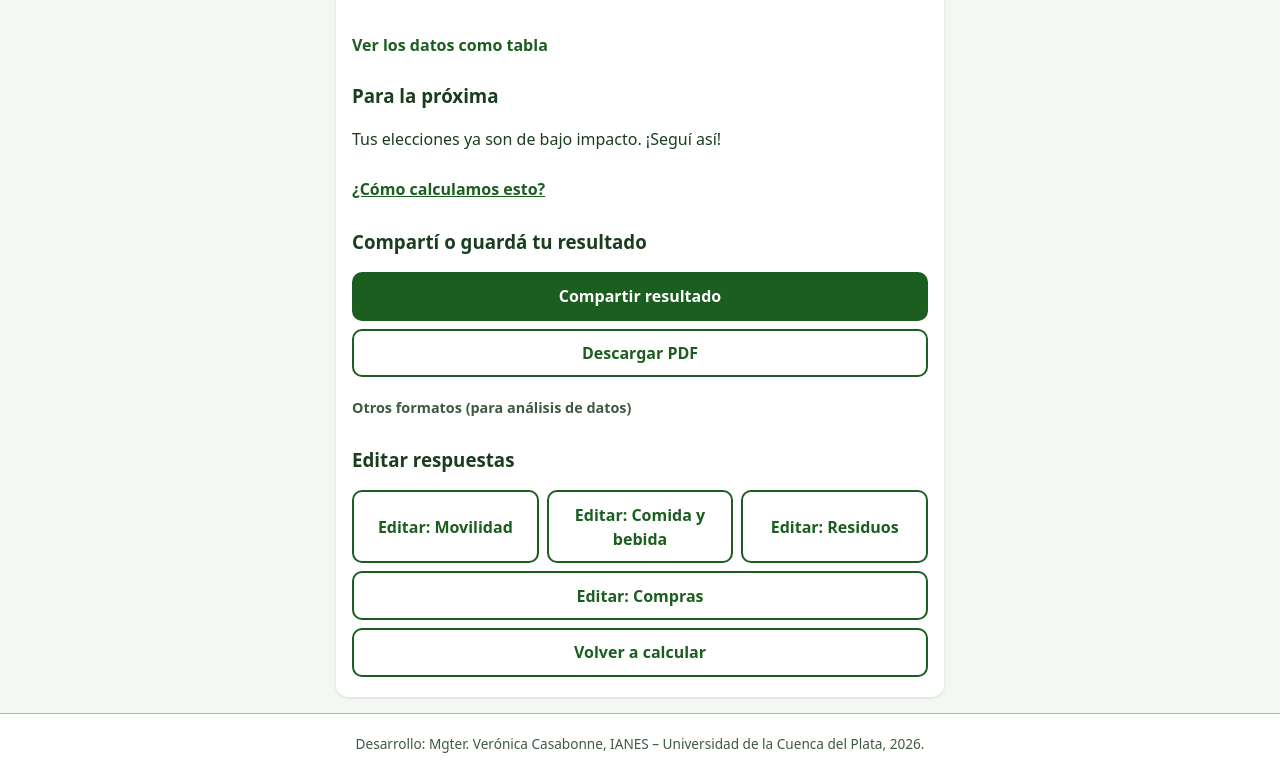
Scenario: resultados › si el PDF falla, avisa con un mensaje
(page scrolled)
Click the button "Descargar PDF" at (640, 353), box [352, 328, 928, 377]
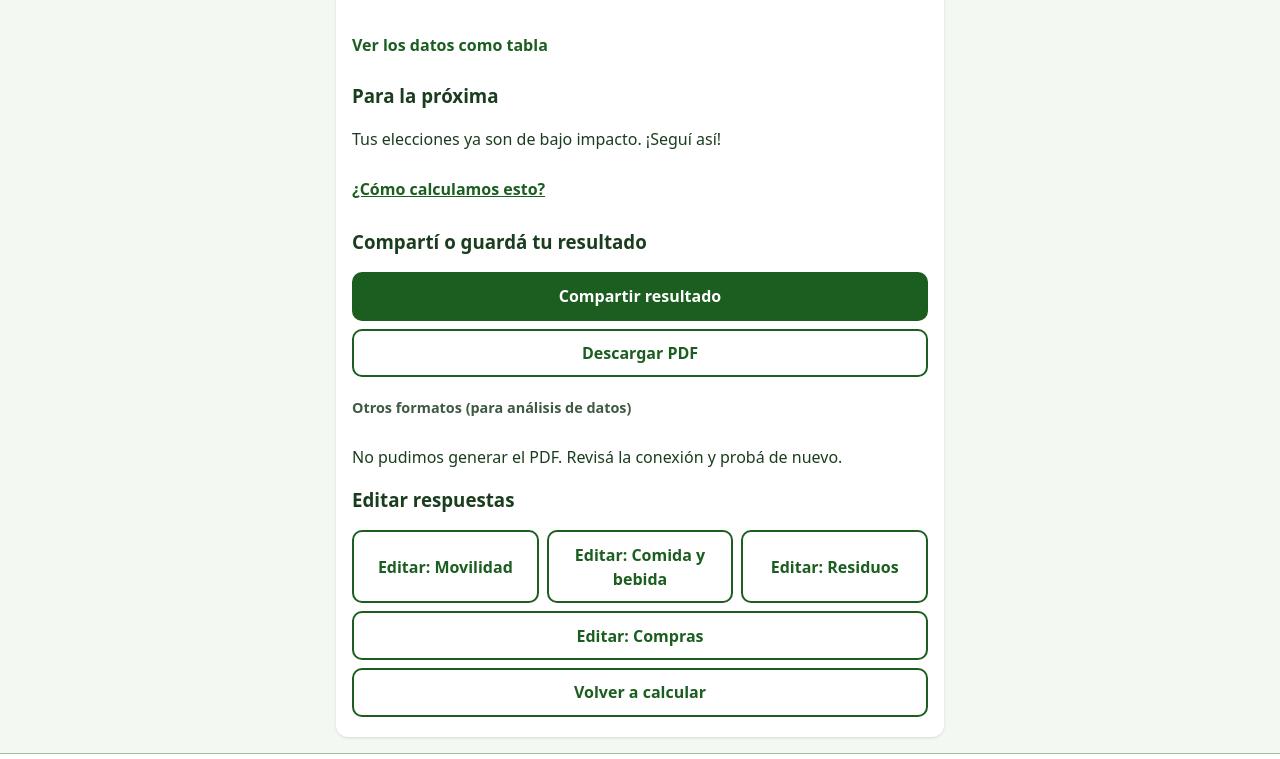
Now the text "No pudimos generar el PDF. Revisá la conexión y probá de nuevo." is shown, box [352, 445, 928, 469]
